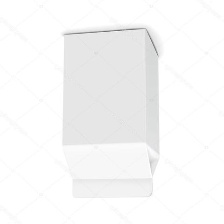carton: (54, 24, 173, 205)
